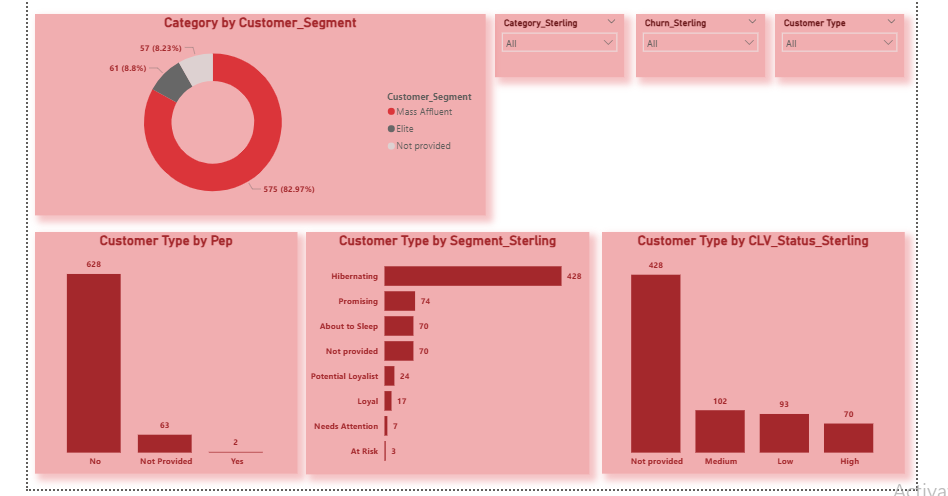

This screenshot's page, from the dashboard's own definition file:
{"tool":"powerbi","page":{"name":"Customer Information","canvas":[1280,720],"ordinal":1},"visuals":[{"type":"columnChart","title":"Customer Type by Pep","fields":{"Category":["Customer 360 Data.Pep"],"Y":["CountNonNull(Customer 360 Data.Customer Type)"]},"box":[10.1,350.6,378,347.7],"z":0},{"type":"slicer","fields":{"Values":["Customer 360 Data.Churn_Sterling"]},"box":[875.8,36.1,186.1,90.9],"z":1000},{"type":"slicer","fields":{"Values":["Customer 360 Data.Category_Sterling"]},"box":[672.3,36.1,186.1,90.9],"z":2000},{"type":"clusteredBarChart","title":"Customer Type by Segment_Sterling","fields":{"Category":["Customer 360 Data.Segment_Sterling"],"Y":["CountNonNull(Customer 360 Data.Customer Type)"]},"box":[399.6,350.6,408.3,349.1],"z":3000},{"type":"columnChart","title":"Customer Type by CLV_Status_Sterling","fields":{"Y":["CountNonNull(Customer 360 Data.Customer Type)"],"Category":["Customer 360 Data.CLV_Status_Sterling"]},"box":[826.7,350.6,435.7,347.7],"z":4000},{"type":"donutChart","title":"Category by Customer_Segment","fields":{"Category":["Customer 360 Data.Customer_Segment"],"Y":["CountNonNull(Customer 360 Data.Category_Sterling)"]},"box":[10.1,36.1,649.2,290],"z":5000},{"type":"slicer","fields":{"Values":["Customer 360 Data.Customer Type"]},"box":[1076.3,36.1,186.1,90.9],"z":6000}]}

Visuals, with their boxes on the page's 1280x720 design canvas (x1, y1, x2, y2). These are canvas units, not pixel positions in the 948x496 screenshot, which may show the page scaled, cropped or inside an application window:
"Customer Type by Pep" columnChart: box(10, 351, 388, 698)
slicer - Customer 360 Data.Churn_Sterling: box(876, 36, 1062, 127)
slicer - Customer 360 Data.Category_Sterling: box(672, 36, 858, 127)
"Customer Type by Segment_Sterling" clusteredBarChart: box(400, 351, 808, 700)
"Customer Type by CLV_Status_Sterling" columnChart: box(827, 351, 1262, 698)
"Category by Customer_Segment" donutChart: box(10, 36, 659, 326)
slicer - Customer 360 Data.Customer Type: box(1076, 36, 1262, 127)
